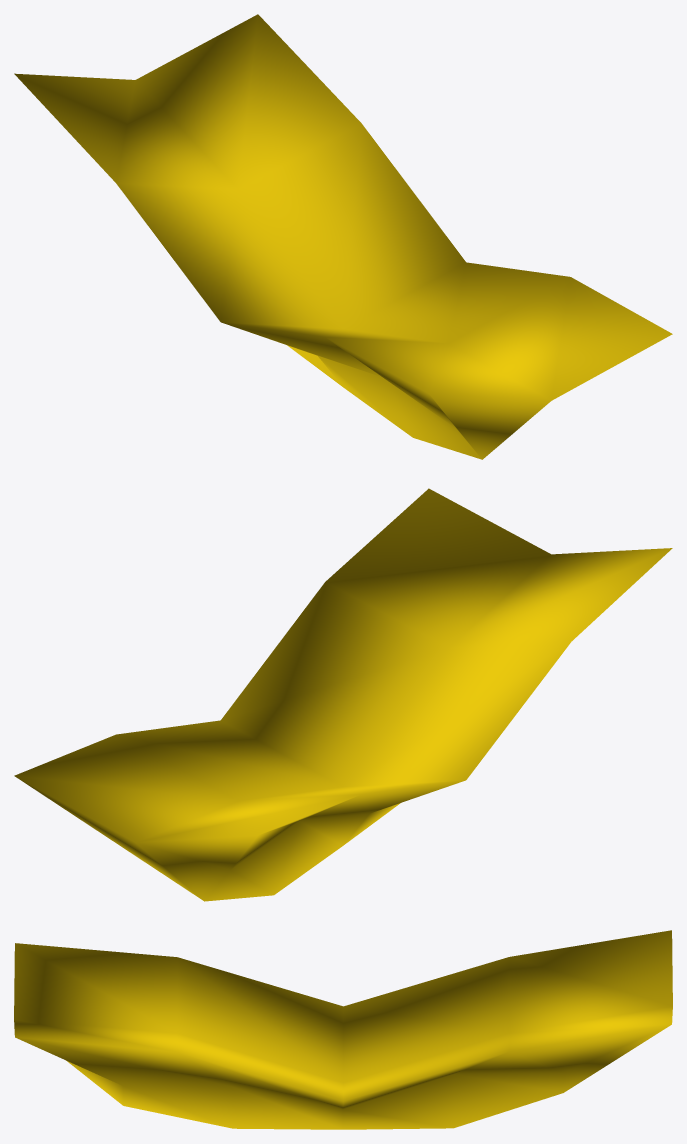
The model's file is ship.gltf.
The picture shows the model from 3 angles, top to bottom: view 1: azimuth 30°, elevation 25°; view 2: azimuth 150°, elevation 25°; view 3: azimuth 270°, elevation 25°; orthographic projection. The views are drawn at different scales.
Visible parts, largest first — view 1: 立方体.003; view 2: 立方体.003; view 3: 立方体.003.
Boxes of the visible parts, x1,y1,x2,y2 form: 立方体.003: (14,14,672,459); 立方体.003: (14,488,672,901); 立方体.003: (14,930,672,1129).
Bounding box in the file's own units: 5.39 × 4.02 × 15.77.
